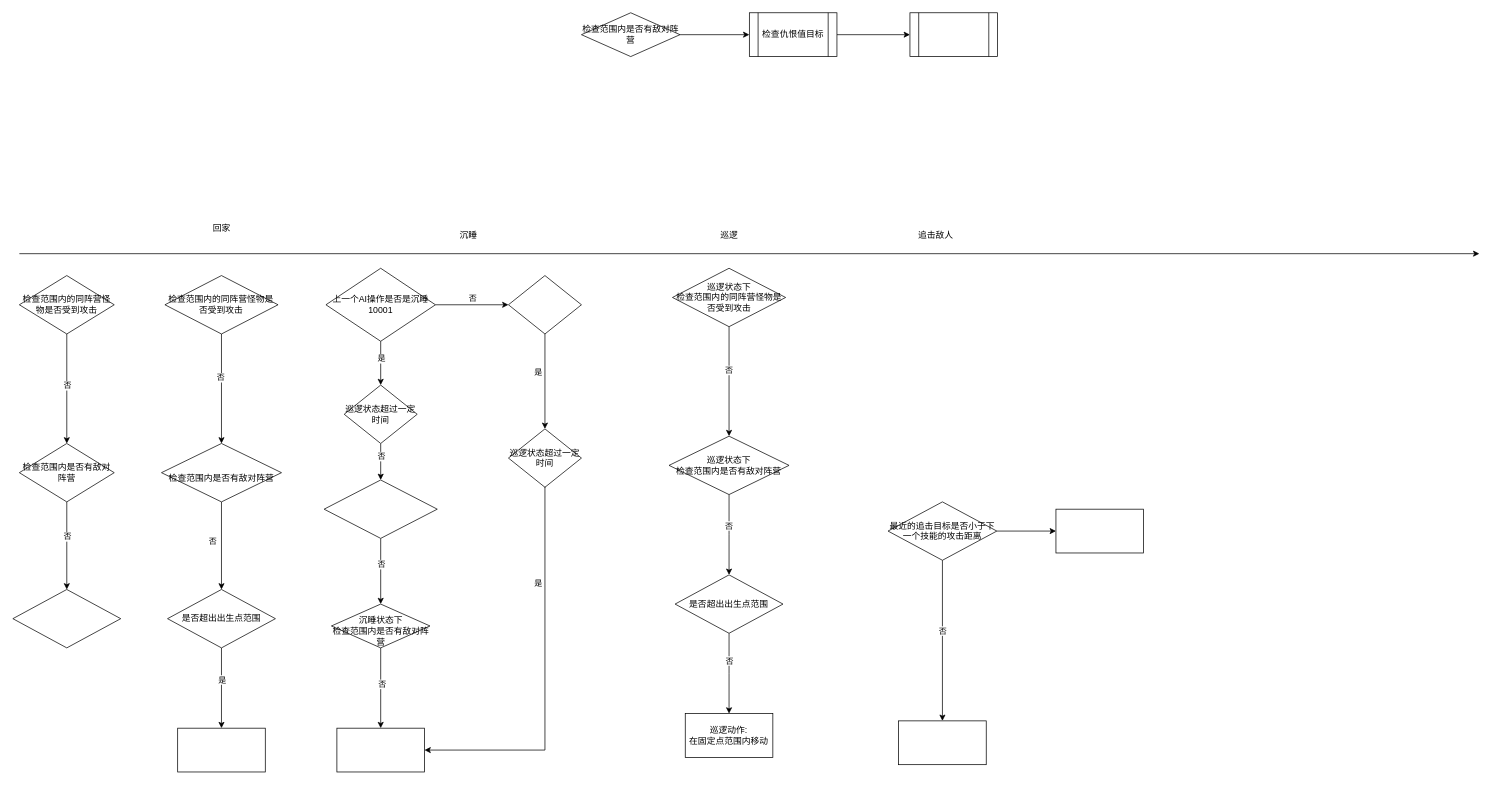
Image size: 1498x785. Some labels were removed from this diagram. Each missing label, with the centre of its shape:
"上一个状态时追击状态" goes at [66,618].
"回退动作: 回到固定点" goes at [221,749].
"攻击动作: 使用技能攻击目标" goes at [1099,530].
"是否是巡逻状态" goes at [544,304].
"检查敌对阵营目标" goes at [953,34].
"沉睡状态下 检查范围内的同阵营包括自己是否受到攻击" goes at [380,508].
"睡眠动作: 静止不懂" goes at [380,749].
"追击动作: 移动到能对目标能发起攻击的地点" goes at [942,742].
